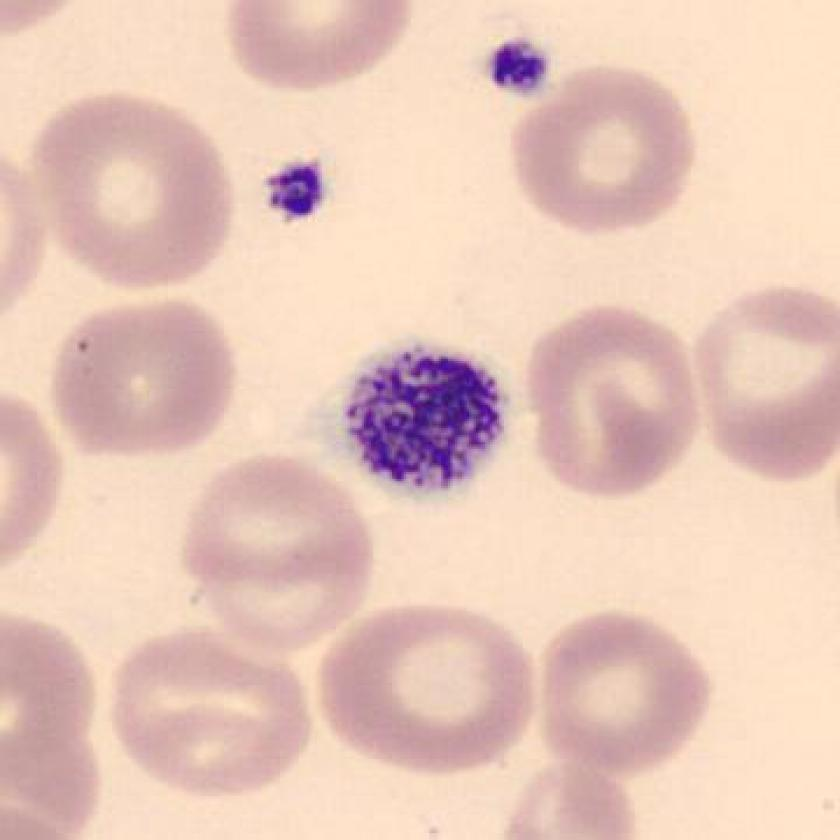platelets: (316, 330, 524, 515), (472, 25, 568, 115), (253, 149, 339, 235)
